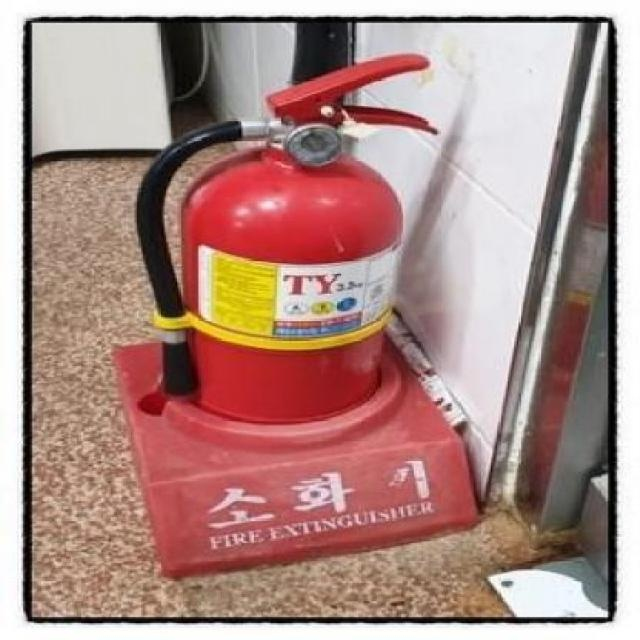fire extinguisher: (134, 53, 438, 427)
